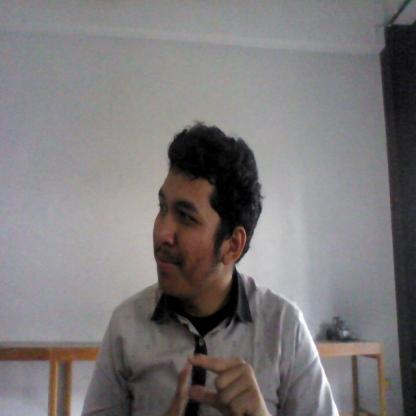P: (158, 350, 262, 416)
